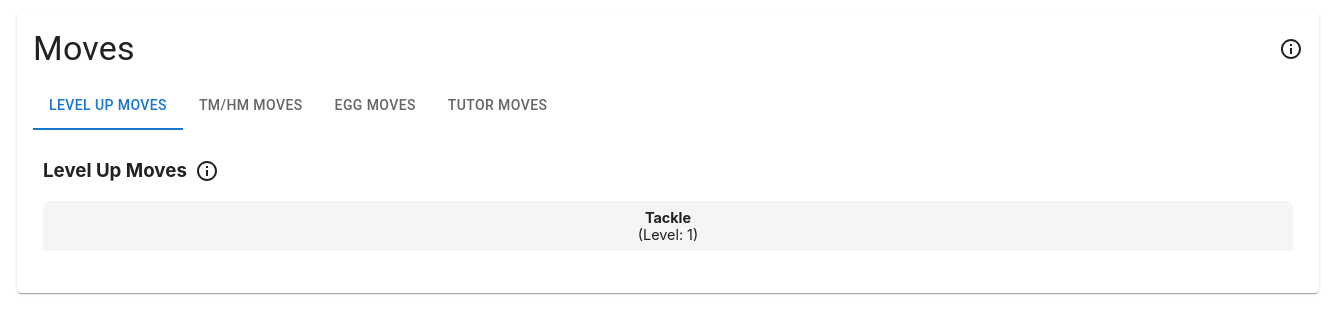
Scenario: Moves Component › renders TM/HM Moves tab and shows moves when clicked
This screenshot has width=1337, height=312.
// Click the TM/HM Moves tab
Click the tab "TM/HM Moves".
click(251, 106)  # box [183,82,318,130]
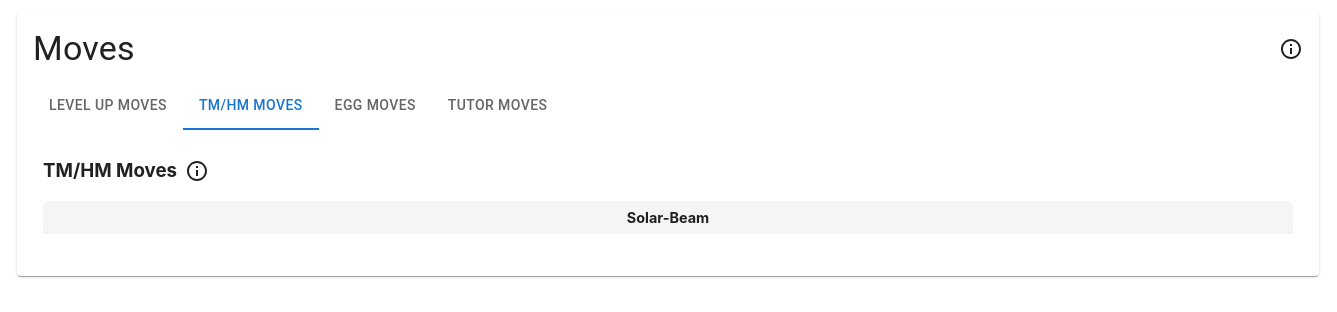
Expected: the text "solar-beam" is shown, [627,209,709,226]
